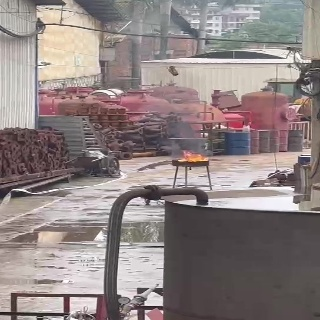fire: (178, 151, 207, 161)
